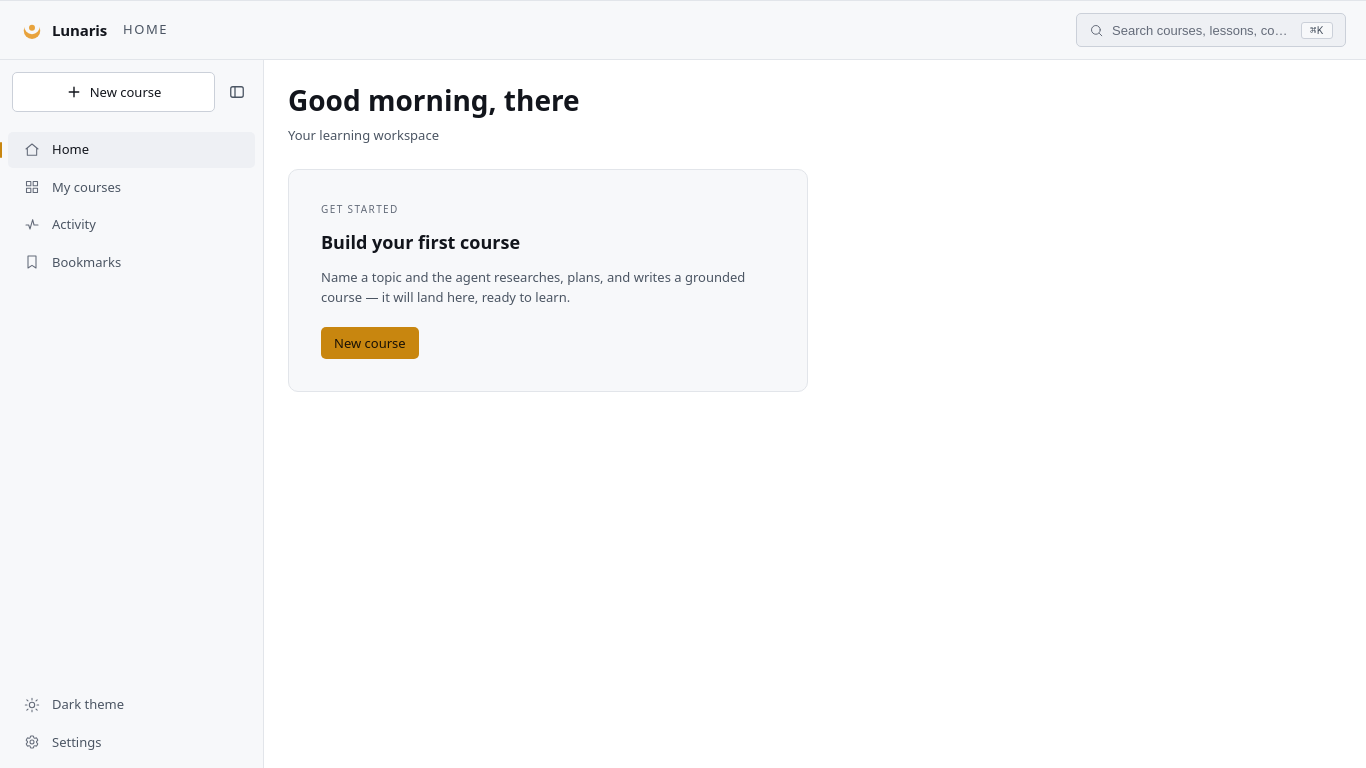
Test case: App — URL routing (live studio) › shows the first-run hero on Home when the library is empty
Check: the heading "Build your first course" is shown, box 321,229 -> 520,256
Click the button "New course" below "Build your first course" at (370, 343), box 321,327 -> 419,359
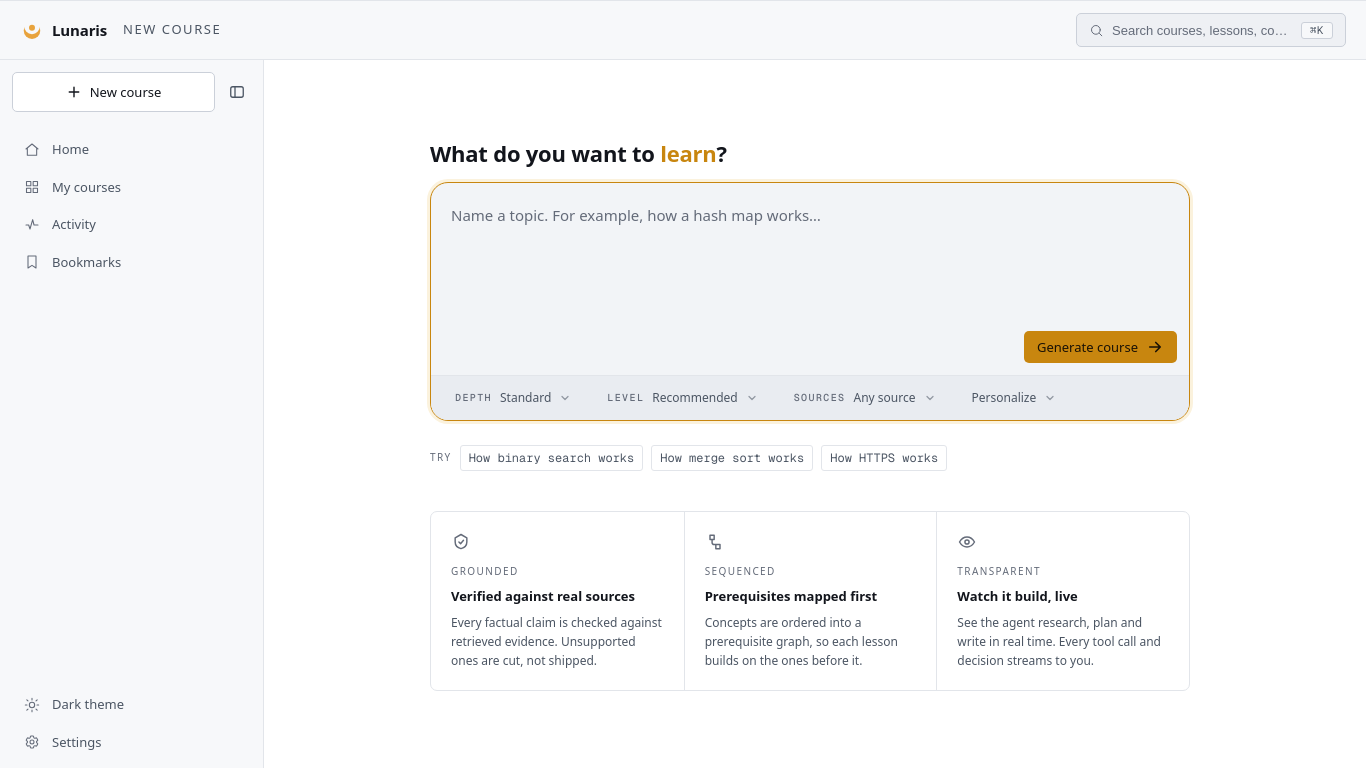
Check: the heading "What do you want to learn?" is shown, box 430,138 -> 727,168
